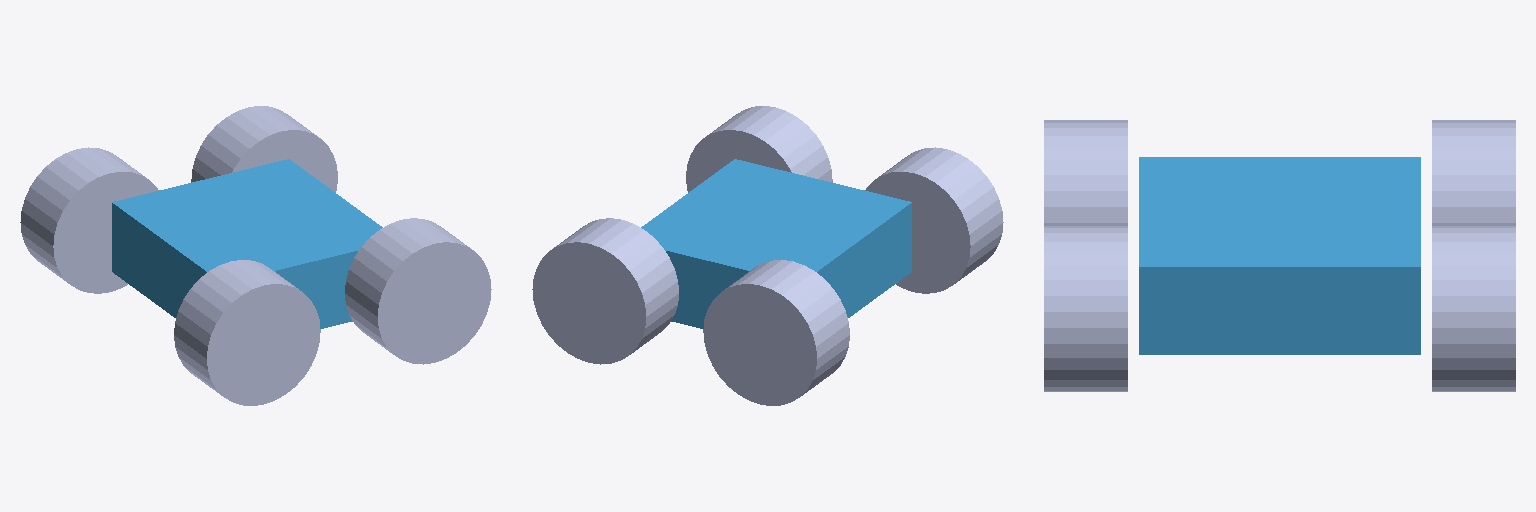
URDF robot description (robot_base):
<?xml version="1.0" ?>
<!-- =================================================================================== -->
<!-- |    This document was autogenerated by xacro from robot_base.urdf                | -->
<!-- |    EDITING THIS FILE BY HAND IS NOT RECOMMENDED                                 | -->
<!-- =================================================================================== -->
<robot name="robot_base">
  <link name="base_footprint">
    <inertial>
      <mass value="1.0"/>
      <origin xyz="0 0 0"/>
      <inertia ixx="1.391" ixy="0.004" ixz="0.0" iyy="6.853" iyz="0.0" izz="6.125"/>
    </inertial>
    <visual>
      <origin rpy="1.57079 0 3.1415" xyz="0 0 0"/>
      <geometry>
        <box size="0.001 0.001 0.001"/>
      </geometry>
    </visual>
  </link>
  <joint name="base_footprint_joint" type="fixed">
    <origin rpy="0 0 0" xyz="0 0 0.06"/>
    <parent link="base_footprint"/>
    <child link="base_link"/>
  </joint>
  <!-- BASE_LINK -->
  <link name="base_link">
    <collision>
      <origin rpy="0 0 0" xyz="0 0 0.0"/>
      <geometry>
        <!--<mesh filename="package://mobile_manipulator_body/meshes/robot_base.stl"/>-->
        <box size="0.187 0.203 0.07"/>
      </geometry>
    </collision>
    <inertial>
      <mass value="5.0"/>
      <origin xyz="0 0 0"/>
      <inertia ixx="1.391" ixy="0.004" ixz="0.0" iyy="6.853" iyz="0.0" izz="6.125"/>
    </inertial>
    <visual>
      <origin rpy="0 0 0" xyz="0 0 0"/>
      <geometry>
        <!--<mesh filename="package://mobile_manipulator_body/meshes/robot_base.stl"/>-->
        <box size="0.187 0.203 0.07"/>
      </geometry>
    </visual>
  </link>
  <link name="front_left_wheel">
    <collision>
      <origin rpy="1.5707963267949 0 0" xyz="0 0 0"/>
      <geometry>
        <cylinder length="0.06" radius="0.06"/>
      </geometry>
    </collision>
    <inertial>
      <origin rpy="0 0 0" xyz="-4.1867E-18 0.0068085 -1.65658661799998E-18"/>
      <mass value="0.378"/>
      <inertia ixx="0.00856502765719703" ixy="1.5074118157338E-19" ixz="-4.78150098725052E-19" iyy="0.013670640432096" iyz="-2.68136447099727E-19" izz="0.00856502765719703"/>
    </inertial>
    <visual>
      <origin rpy="1.5707963267949 0 0" xyz="0 0 0"/>
      <geometry>
        <cylinder length="0.06" radius="0.06"/>
      </geometry>
      <material name="">
        <color rgba="0.79216 0.81961 0.93333 1"/>
      </material>
    </visual>
  </link>
  <link name="front_right_wheel">
    <collision>
      <origin rpy="1.5707963267949 0 0" xyz="0 0 0"/>
      <geometry>
        <cylinder length="0.06" radius="0.06"/>
      </geometry>
    </collision>
    <inertial>
      <origin rpy="0 0 0" xyz="-4.1867E-18 0.0068085 -1.65658661799998E-18"/>
      <mass value="0.378"/>
      <inertia ixx="0.00856502765719703" ixy="1.5074118157338E-19" ixz="-4.78150098725052E-19" iyy="0.013670640432096" iyz="-2.68136447099727E-19" izz="0.00856502765719703"/>
    </inertial>
    <visual>
      <origin rpy="1.5707963267949 0 0" xyz="0 0 0"/>
      <geometry>
        <cylinder length="0.06" radius="0.06"/>
      </geometry>
      <material name="">
        <color rgba="0.79216 0.81961 0.93333 1"/>
      </material>
    </visual>
  </link>
  <link name="rear_left_wheel">
    <collision>
      <origin rpy="1.5707963267949 0 0" xyz="0 0 0"/>
      <geometry>
        <cylinder length="0.06" radius="0.06"/>
      </geometry>
    </collision>
    <inertial>
      <origin rpy="0 0 0" xyz="-4.1867E-18 0.0068085 -1.65658661799998E-18"/>
      <mass value="0.378"/>
      <inertia ixx="0.00856502765719703" ixy="1.5074118157338E-19" ixz="-4.78150098725052E-19" iyy="0.013670640432096" iyz="-2.68136447099727E-19" izz="0.00856502765719703"/>
    </inertial>
    <visual>
      <origin rpy="1.5707963267949 0 0" xyz="0 0 0"/>
      <geometry>
        <cylinder length="0.06" radius="0.06"/>
      </geometry>
      <material name="">
        <color rgba="0.79216 0.81961 0.93333 1"/>
      </material>
    </visual>
  </link>
  <link name="rear_right_wheel">
    <collision>
      <origin rpy="1.5707963267949 0 0" xyz="0 0 0"/>
      <geometry>
        <cylinder length="0.06" radius="0.06"/>
      </geometry>
    </collision>
    <inertial>
      <origin rpy="0 0 0" xyz="-4.1867E-18 0.0068085 -1.65658661799998E-18"/>
      <mass value="0.378"/>
      <inertia ixx="0.00856502765719703" ixy="1.5074118157338E-19" ixz="-4.78150098725052E-19" iyy="0.013670640432096" iyz="-2.68136447099727E-19" izz="0.00856502765719703"/>
    </inertial>
    <visual>
      <origin rpy="1.5707963267949 0 0" xyz="0 0 0"/>
      <geometry>
        <cylinder length="0.06" radius="0.06"/>
      </geometry>
      <material name="">
        <color rgba="0.79216 0.81961 0.93333 1"/>
      </material>
    </visual>
  </link>
  <joint name="front_left_wheel_joint" type="continuous">
    <axis xyz="0 1 0"/>
    <parent link="base_link"/>
    <child link="front_left_wheel"/>
    <origin rpy="0 0 0" xyz="0.09 0.14 0"/>
  </joint>
  <joint name="front_right_wheel_joint" type="continuous">
    <axis xyz="0 1 0"/>
    <parent link="base_link"/>
    <child link="front_right_wheel"/>
    <origin rpy="0 0 0" xyz="0.09 -0.14 0"/>
  </joint>
  <joint name="rear_left_wheel_joint" type="continuous">
    <axis xyz="0 1 0"/>
    <parent link="base_link"/>
    <child link="rear_left_wheel"/>
    <origin rpy="0 0 0" xyz="-0.09 0.14 0"/>
  </joint>
  <joint name="rear_right_wheel_joint" type="continuous">
    <axis xyz="0 1 0"/>
    <parent link="base_link"/>
    <child link="rear_right_wheel"/>
    <origin rpy="0 0 0" xyz="-0.09 -0.14 0"/>
  </joint>
  <transmission name="front_left_wheel_trans" type="SimpleTransmission">
    <type>transmission_interface/SimpleTransmission</type>
    <!---  <actuator name="${prefix}_wheel_motor"> 

  	<hardwareInterface>hardware_interface/VelocityJointInterface</hardwareInterface> 

  	<mechanicalReduction>1</mechanicalReduction> 

  </actuator> -->
    <joint name="front_left_wheel_joint">
      <hardwareInterface>hardware_interface/VelocityJointInterface</hardwareInterface>
    </joint>
  </transmission>
  <transmission name="front_right_wheel_trans" type="SimpleTransmission">
    <type>transmission_interface/SimpleTransmission</type>
    <!---  <actuator name="${prefix}_wheel_motor"> 

  	<hardwareInterface>hardware_interface/VelocityJointInterface</hardwareInterface> 

  	<mechanicalReduction>1</mechanicalReduction> 

  </actuator> -->
    <joint name="front_right_wheel_joint">
      <hardwareInterface>hardware_interface/VelocityJointInterface</hardwareInterface>
    </joint>
  </transmission>
  <transmission name="rear_left_wheel_trans" type="SimpleTransmission">
    <type>transmission_interface/SimpleTransmission</type>
    <!---  <actuator name="${prefix}_wheel_motor"> 

  	<hardwareInterface>hardware_interface/VelocityJointInterface</hardwareInterface> 

  	<mechanicalReduction>1</mechanicalReduction> 

  </actuator> -->
    <joint name="rear_left_wheel_joint">
      <hardwareInterface>hardware_interface/VelocityJointInterface</hardwareInterface>
    </joint>
  </transmission>
  <transmission name="rear_right_wheel_trans" type="SimpleTransmission">
    <type>transmission_interface/SimpleTransmission</type>
    <!---  <actuator name="${prefix}_wheel_motor"> 

  	<hardwareInterface>hardware_interface/VelocityJointInterface</hardwareInterface> 

  	<mechanicalReduction>1</mechanicalReduction> 

  </actuator> -->
    <joint name="rear_right_wheel_joint">
      <hardwareInterface>hardware_interface/VelocityJointInterface</hardwareInterface>
    </joint>
  </transmission>
  <gazebo reference="front_left_wheel">
    <ode>
      <mu1 value="0.80"/>
      <mu2 value="0.2"/>
      <kp value="1000.0"/>
      <kd value="1.0"/>
      <fdir1 value="1 0 0"/>
      <slip1>0</slip1>
      <slip2>0</slip2>
    </ode>
  </gazebo>
  <gazebo reference="front_right_wheel">
    <ode>
      <mu1 value="0.80"/>
      <mu2 value="0.2"/>
      <kp value="1000.0"/>
      <kd value="1.0"/>
      <fdir1 value="1 0 0"/>
      <slip1>0</slip1>
      <slip2>0</slip2>
    </ode>
  </gazebo>
  <gazebo reference="rear_left_wheel">
    <ode>
      <mu1 value="0.80"/>
      <mu2 value="0.2"/>
      <kp value="1000.0"/>
      <kd value="1.0"/>
      <fdir1 value="1 0 0"/>
      <slip1>0</slip1>
      <slip2>0</slip2>
    </ode>
  </gazebo>
  <gazebo reference="rear_right_wheel">
    <ode>
      <mu1 value="0.80"/>
      <mu2 value="0.2"/>
      <kp value="1000.0"/>
      <kd value="1.0"/>
      <fdir1 value="1 0 0"/>
      <slip1>0</slip1>
      <slip2>0</slip2>
    </ode>
  </gazebo>
  <!-- <xacro:driver/>

<xacro:robot_camera/> 

<xacro:robot_lidar/> -->
</robot>

--- Render facts (derived) ---
The picture shows the robot from 3 angles, left to right: view 1: azimuth 30°, elevation 25°; view 2: azimuth 150°, elevation 25°; view 3: azimuth 270°, elevation 25°; orthographic projection.
Model robot_base with 6 links and 5 joints (4 continuous, 1 fixed), rooted at base_footprint, posed every joint at zero.
Visible links, largest first — view 1: base_link, rear_right_wheel, front_right_wheel, rear_left_wheel, front_left_wheel; view 2: base_link, rear_left_wheel, front_left_wheel, rear_right_wheel, front_right_wheel; view 3: base_link, front_left_wheel, front_right_wheel, rear_left_wheel, rear_right_wheel.
Boxes of the visible links, box(x1,y1,x2,y2) form: base_link: box(112, 159, 382, 328); rear_right_wheel: box(174, 260, 320, 405); front_right_wheel: box(345, 218, 491, 364); rear_left_wheel: box(20, 147, 158, 293); front_left_wheel: box(191, 106, 337, 192); base_link: box(641, 159, 911, 328); rear_left_wheel: box(703, 260, 849, 405); front_left_wheel: box(532, 218, 678, 364); rear_right_wheel: box(865, 147, 1003, 293); front_right_wheel: box(686, 106, 832, 192); base_link: box(1139, 157, 1420, 354); front_left_wheel: box(1432, 226, 1515, 391); front_right_wheel: box(1044, 226, 1127, 391); rear_left_wheel: box(1432, 120, 1515, 225); rear_right_wheel: box(1044, 120, 1127, 225).
Bounding box of the posed robot: 0.3 × 0.34 × 0.1205 m (x, y, z).
Geometry: primitives only (box / cylinder / sphere), no mesh files.
